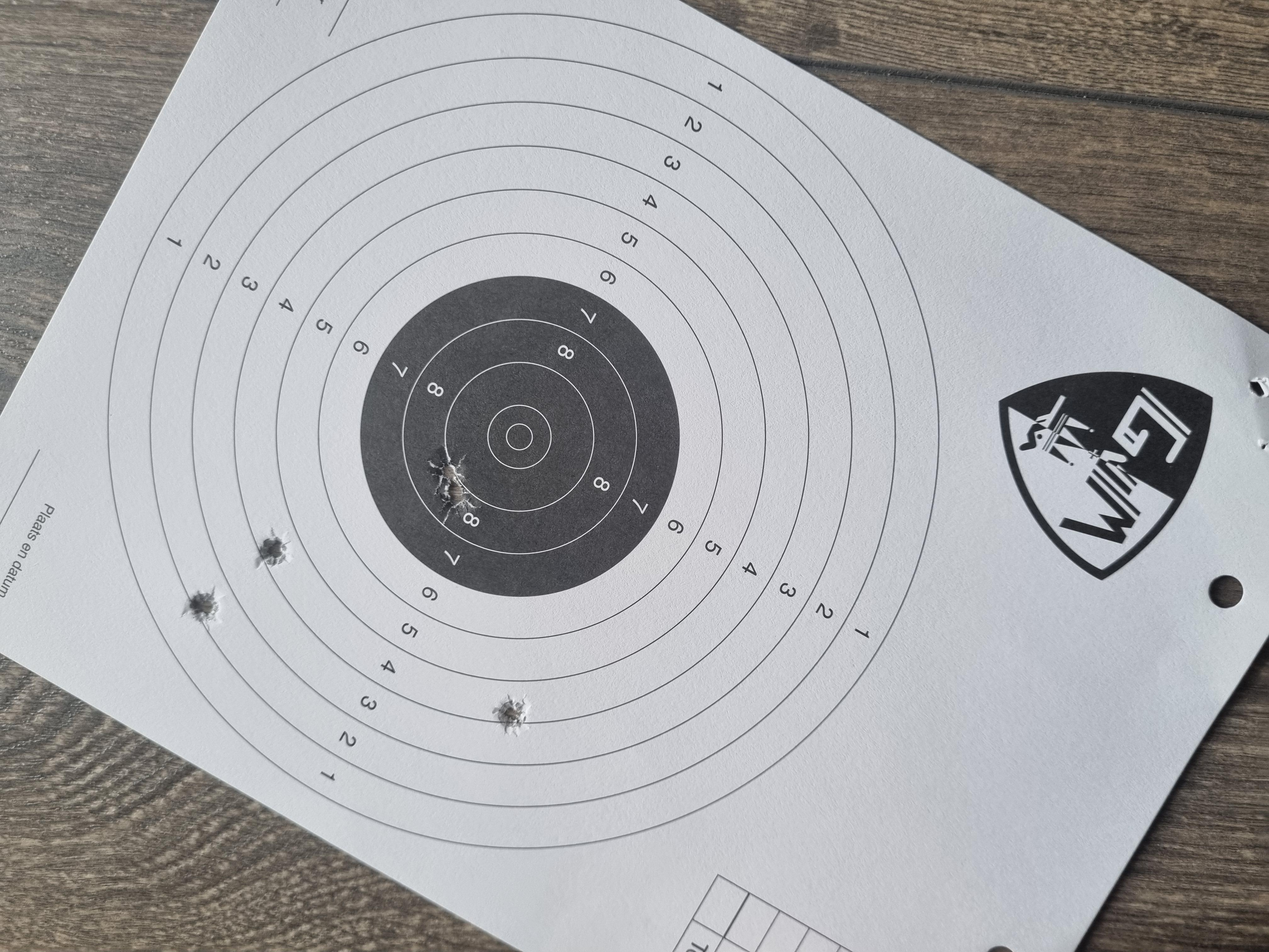hole: (573, 324, 627, 359), (426, 137, 488, 163), (286, 369, 343, 396), (616, 320, 664, 351), (511, 191, 565, 218)
